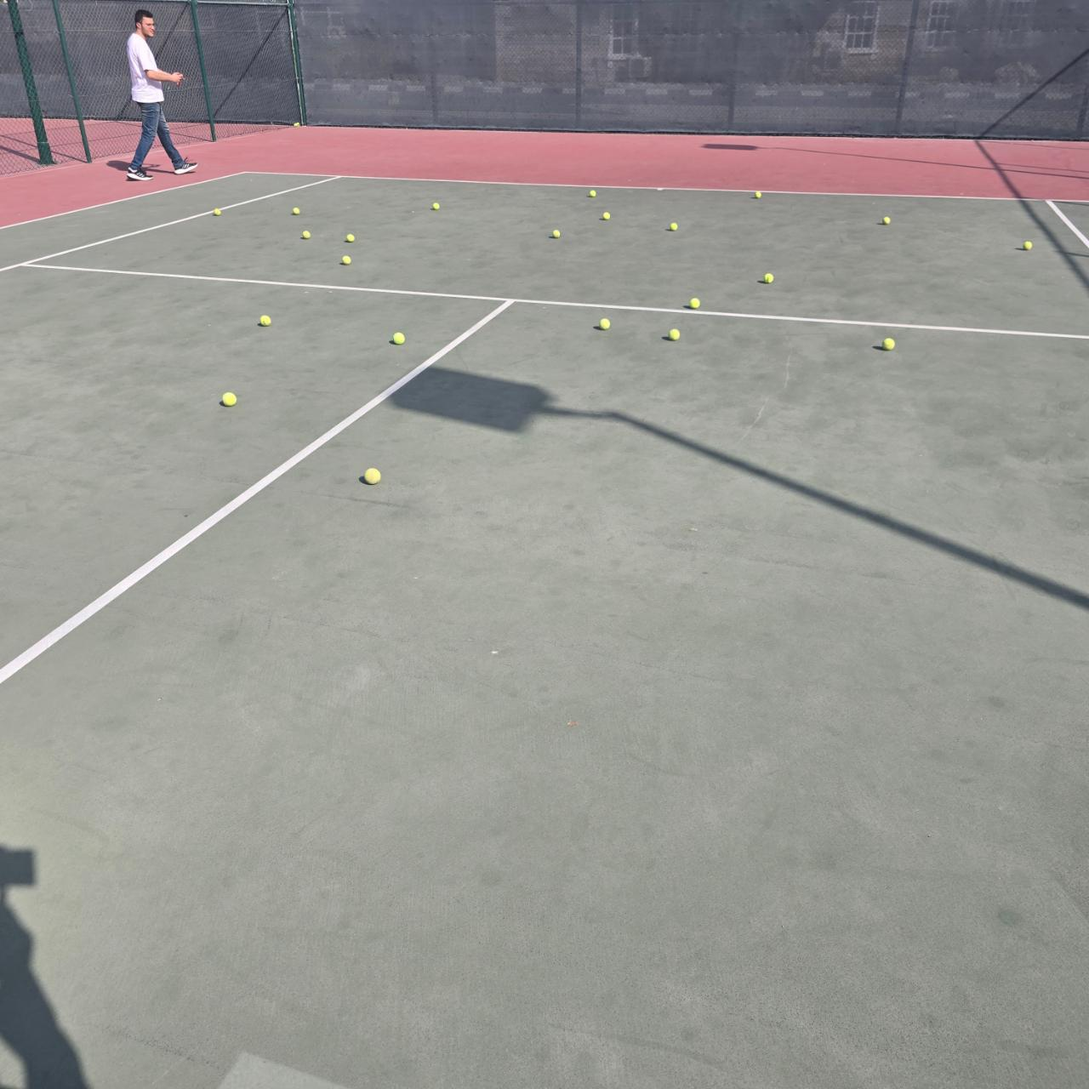tennis-ball: (362, 465, 381, 484), (220, 390, 237, 406), (390, 329, 406, 345), (881, 334, 895, 350), (256, 312, 271, 326), (596, 316, 610, 329), (667, 326, 681, 339), (689, 296, 700, 308), (344, 231, 355, 242), (764, 273, 774, 283), (342, 255, 352, 265), (301, 230, 311, 239), (1023, 241, 1032, 250), (882, 216, 891, 225), (669, 222, 678, 231), (552, 229, 561, 238), (754, 191, 762, 199), (603, 212, 611, 220), (292, 207, 300, 215), (214, 208, 222, 216), (589, 190, 597, 197), (433, 202, 440, 210), (293, 121, 300, 128)
